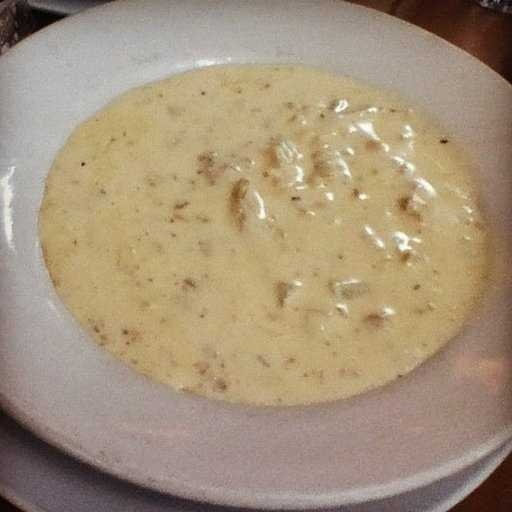soup: (51, 36, 502, 414)
